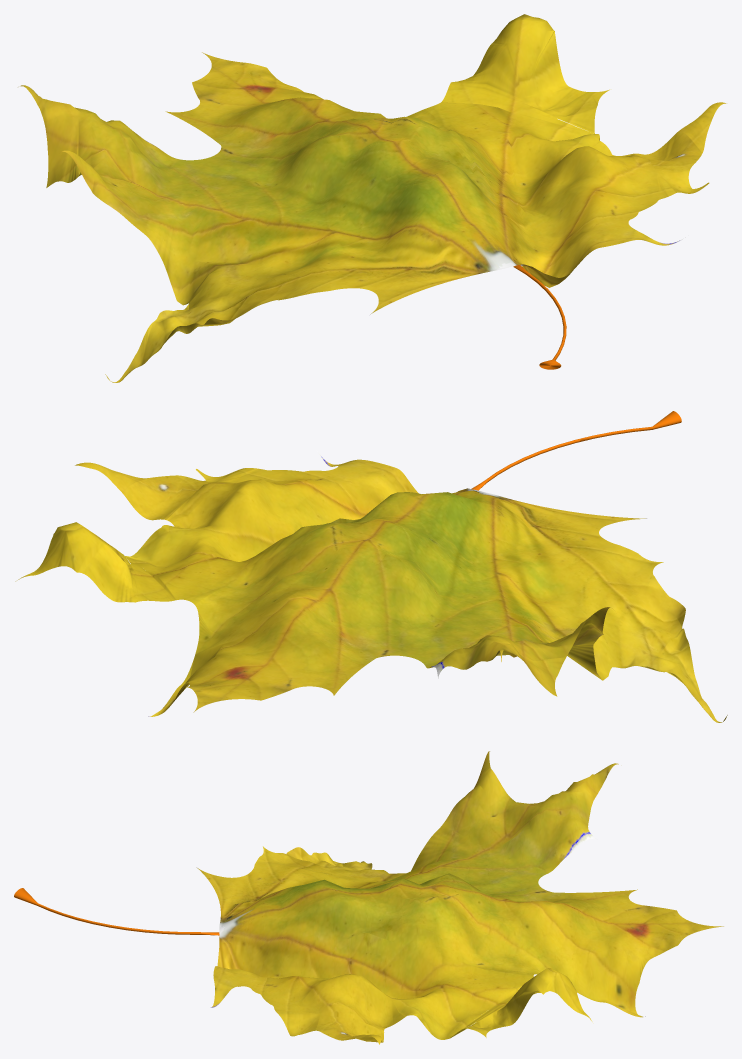
The model's file is leaf_1.dae.
3 renders of one model, top to bottom at view 1: azimuth 30°, elevation 25°; view 2: azimuth 150°, elevation 25°; view 3: azimuth 270°, elevation 25°, orthographic. The views are drawn at different scales.
Visible parts, largest first — view 1: Model; view 2: Model; view 3: Model.
Boxes of the visible parts, left/top/right/bottom form: Model: left=20, top=14, right=726, bottom=382; Model: left=15, top=411, right=727, bottom=722; Model: left=14, top=751, right=723, bottom=1044.
Bounding box in the file's own units: 6.25 × 7.12 × 1.59.
3 materials, 1 textured.
